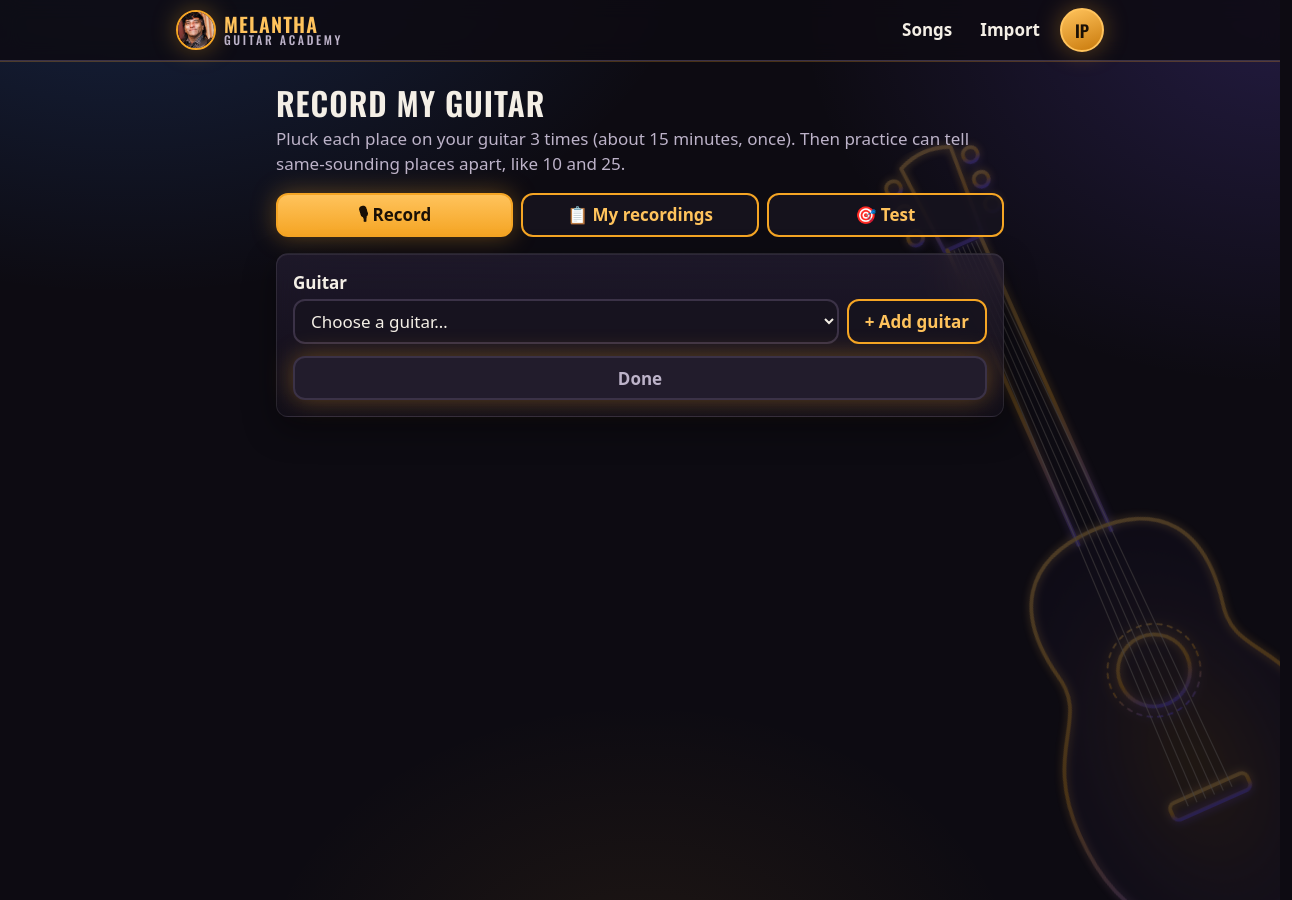
Test: test my guitar (record my guitar page) › …or check the recordings of that place
This screenshot has width=1292, height=900.
Click the button "🎯 Test".
click(885, 215)  # box [767,193,1004,237]
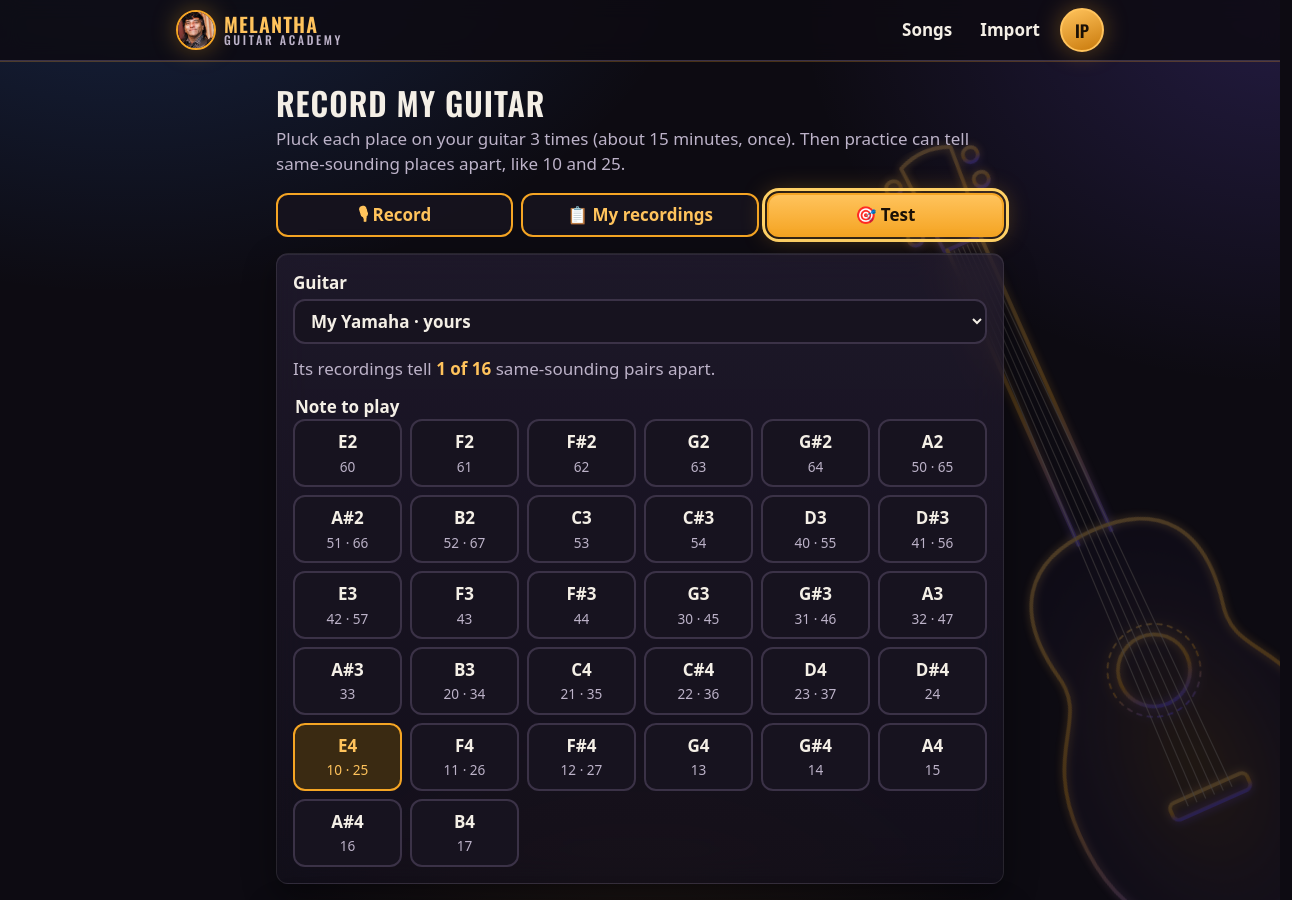
Click the button "E4 10 · 25".
click(348, 757)  # box [293,723,402,791]
(page scrolled)
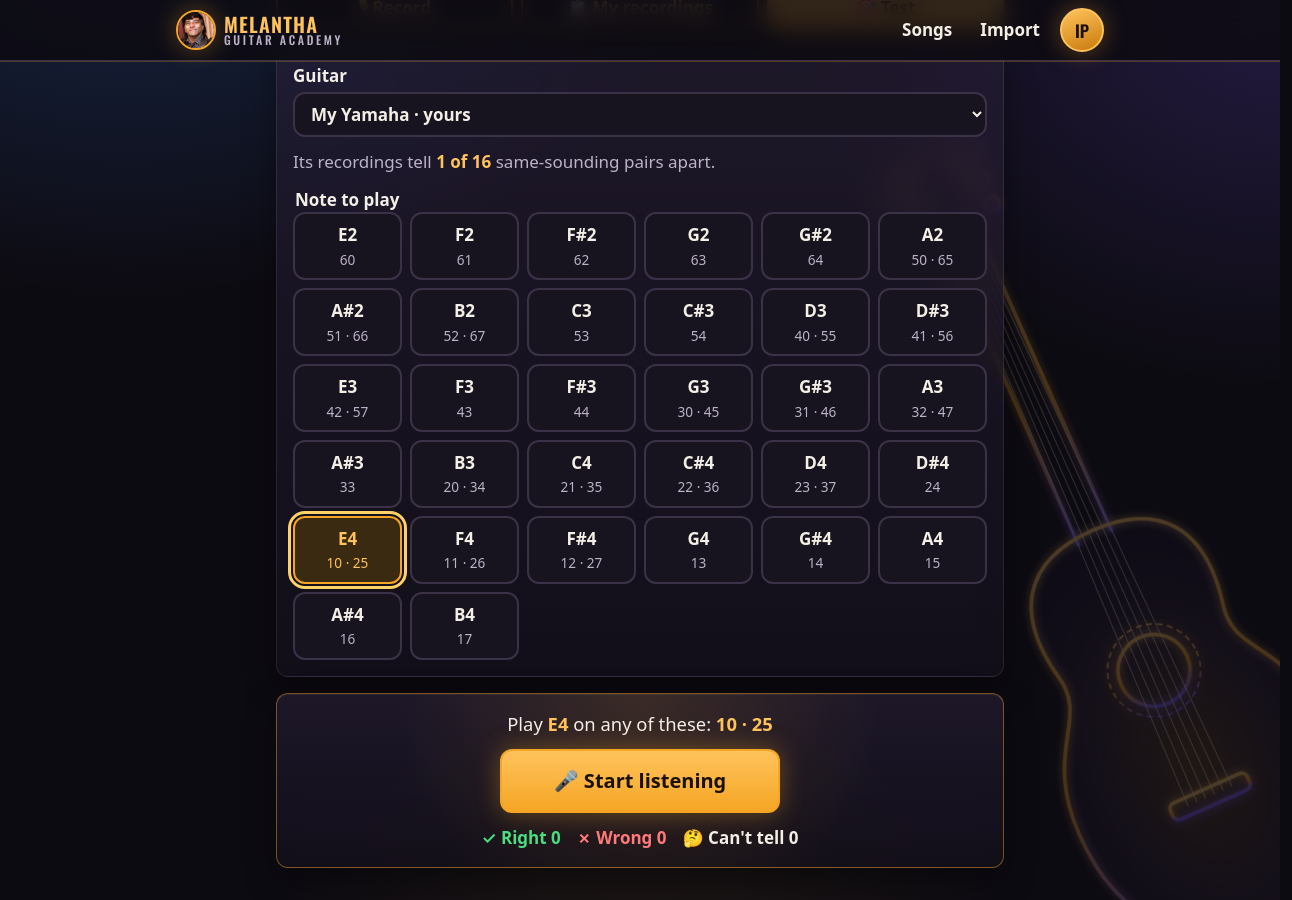
expect the element with test id "test-pairs" is shown: met, box [293,150,715,173]
Click the button "🎤 Start listening".
click(640, 781)  # box [500,749,780,813]
(page scrolled)
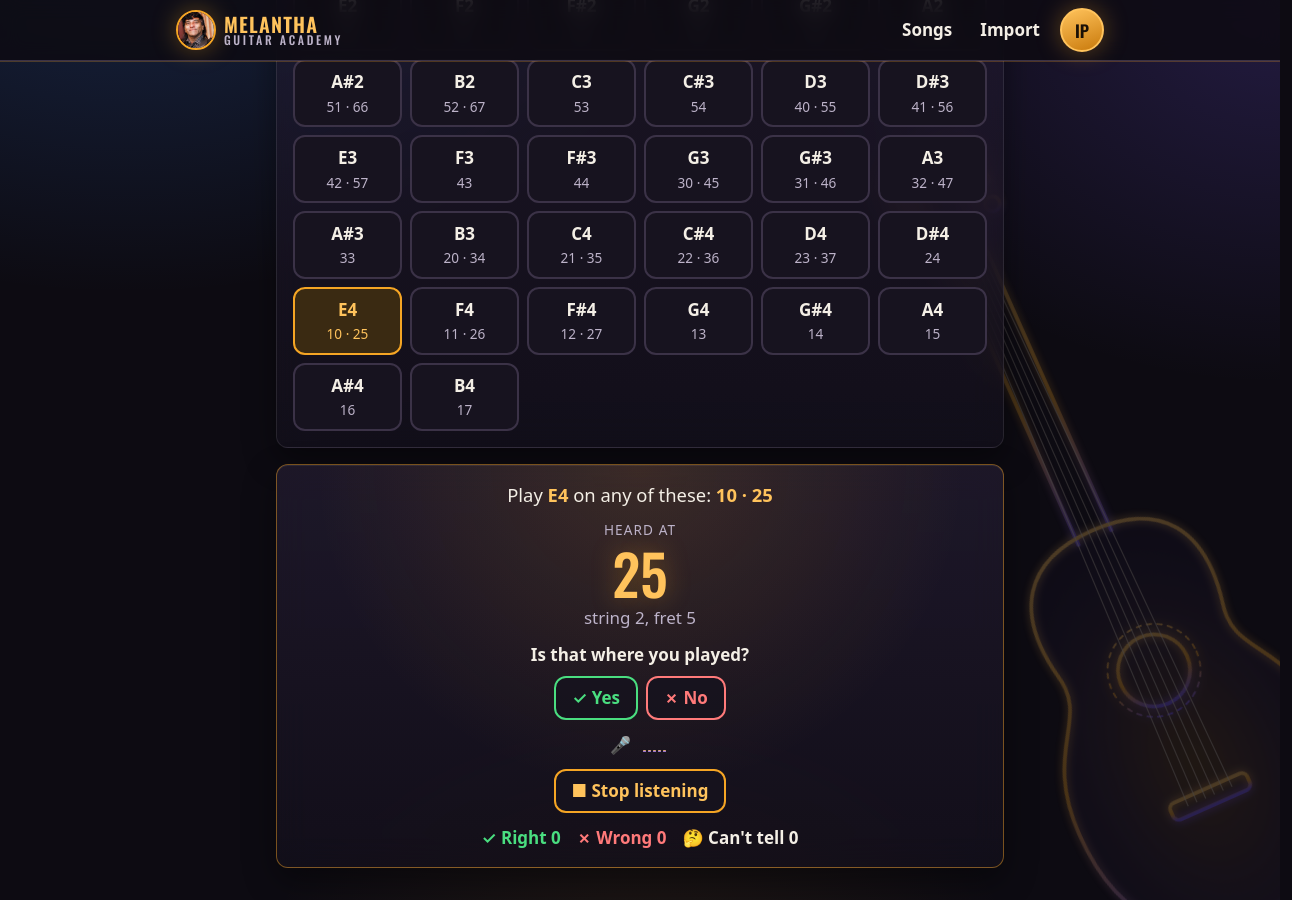
Click the button "✗ No".
click(686, 698)  # box [646,676,726,720]
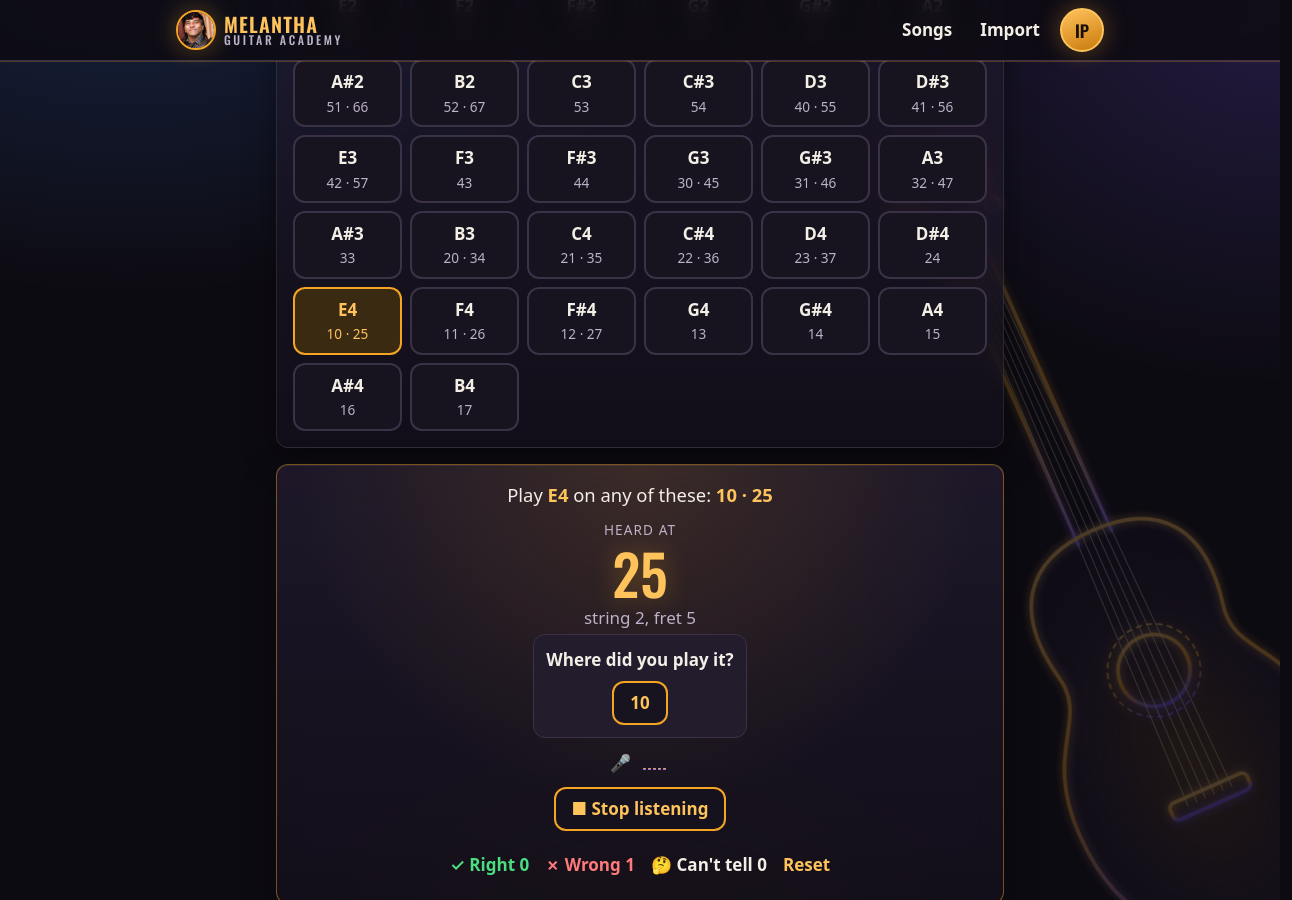
Click the button "10".
click(640, 703)  # box [612,681,668,725]
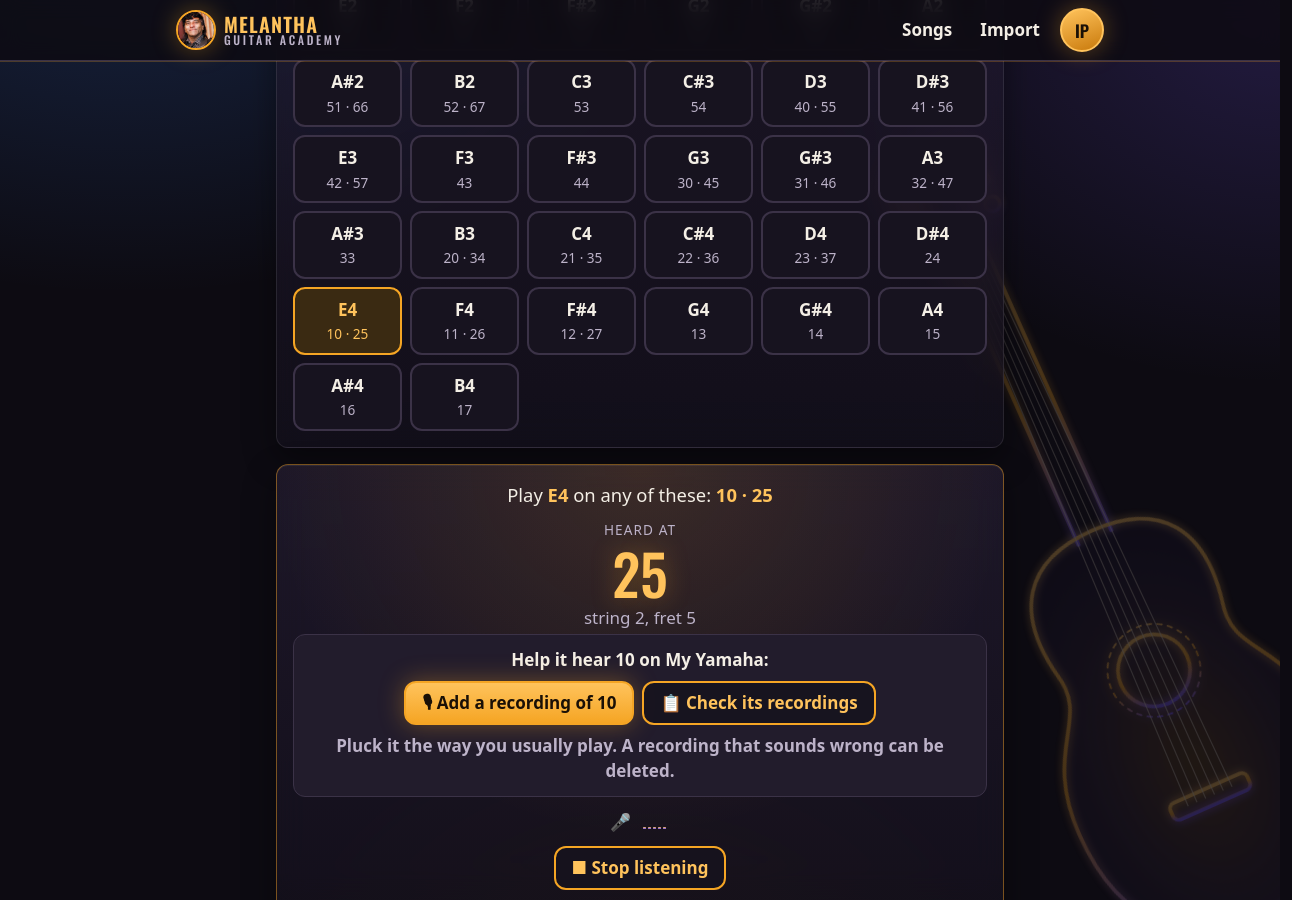
Click the button "📋 Check its recordings".
click(759, 703)  # box [642,681,876,725]
(page scrolled)
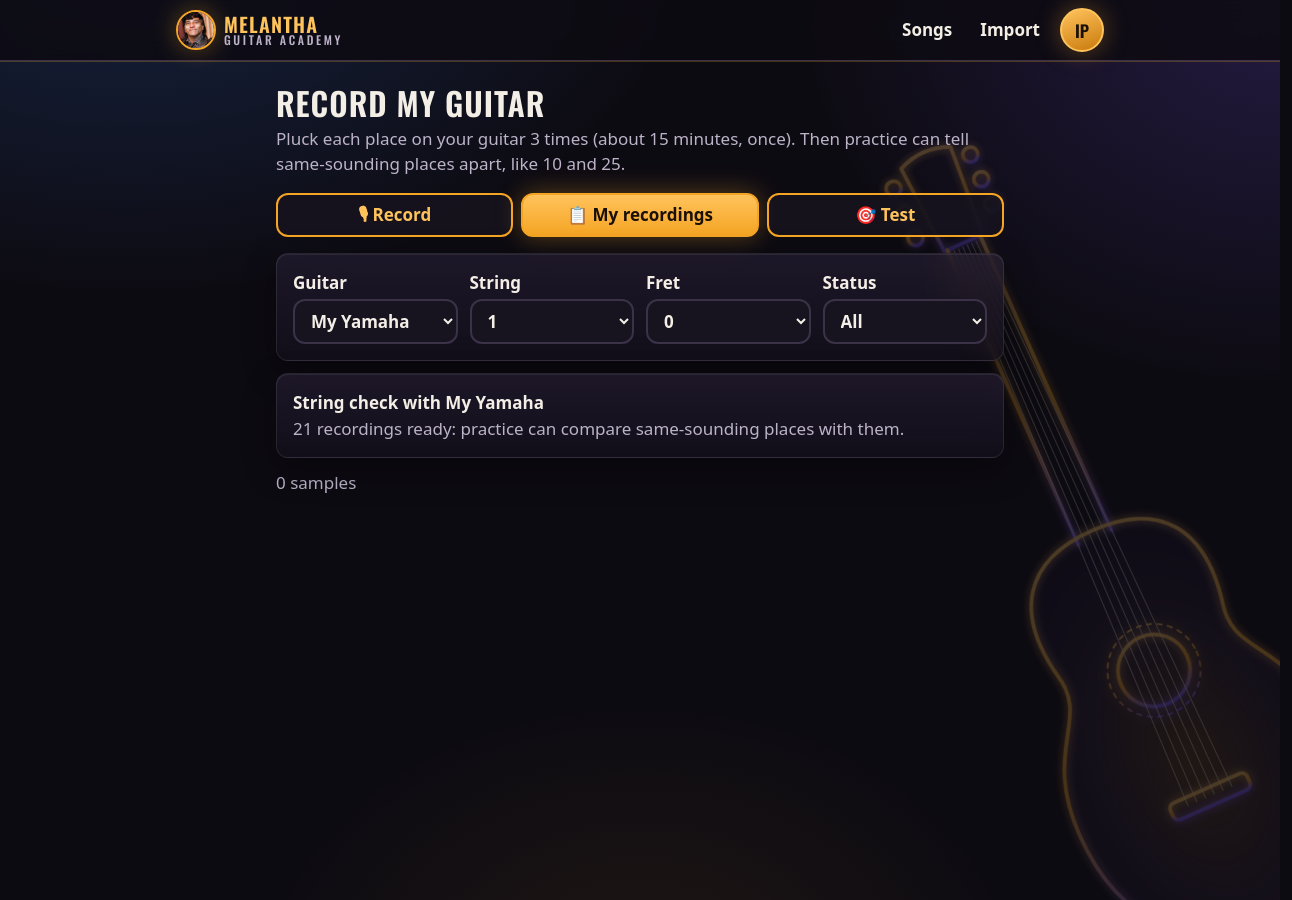
expect the dropdown labelled "Guitar" shows "My Yamaha": met, box [293,299,458,344]
expect the dropdown labelled "String" shows "1": met, box [470,299,634,344]
expect the dropdown labelled "Fret" shows "0": met, box [646,299,810,344]
